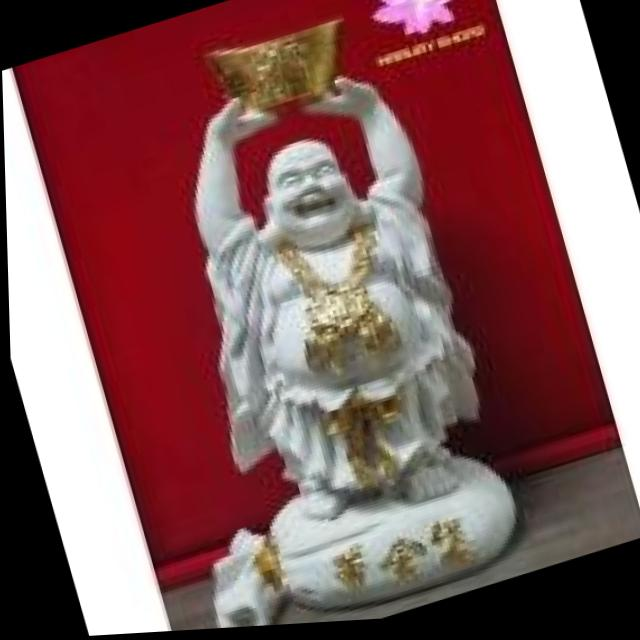Smiling Buddha: (162, 94, 511, 562)
